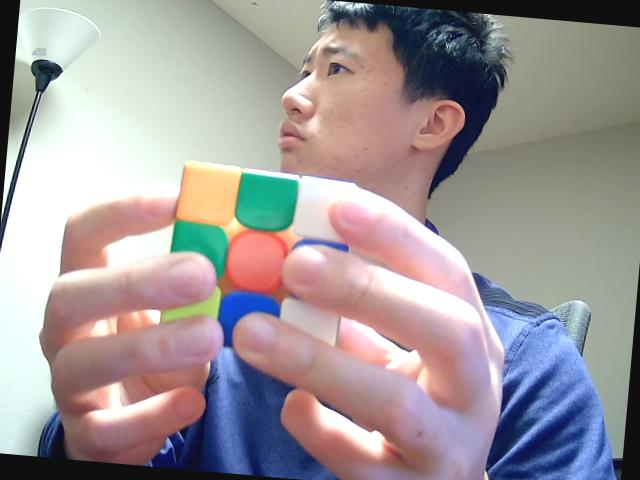Rubiks-Cube: (150, 154, 362, 368)
